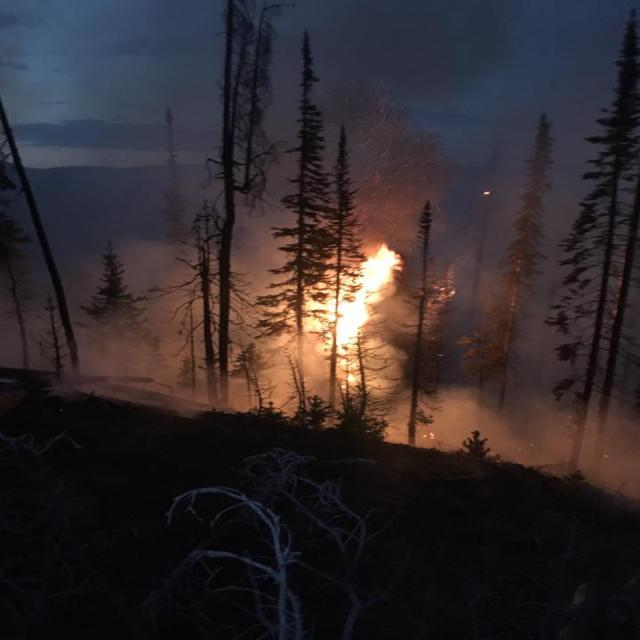Fire: (289, 230, 418, 392)
Smoke: (55, 0, 640, 407), (364, 386, 640, 502)
